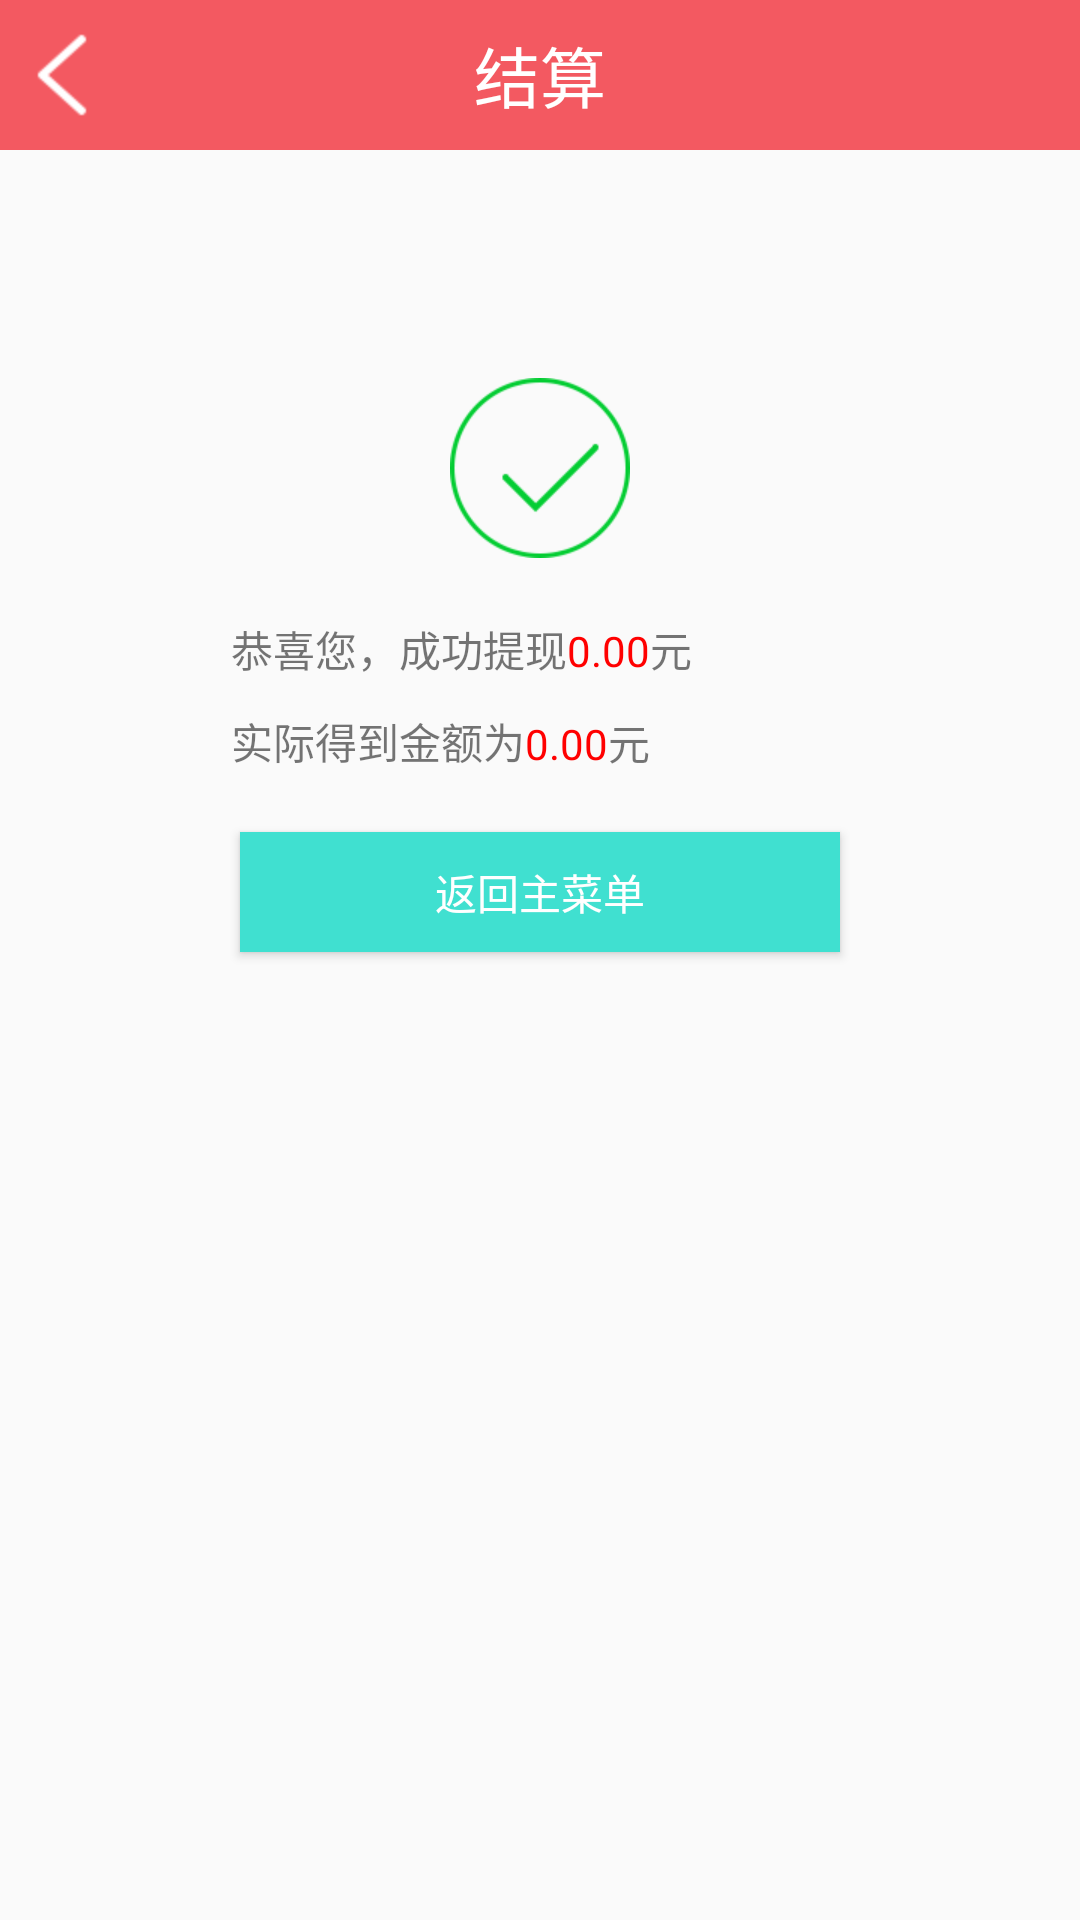

Icon click points for this 1080×1920 phone screenshot, format point (x, y):
dagou: point (540, 468)
